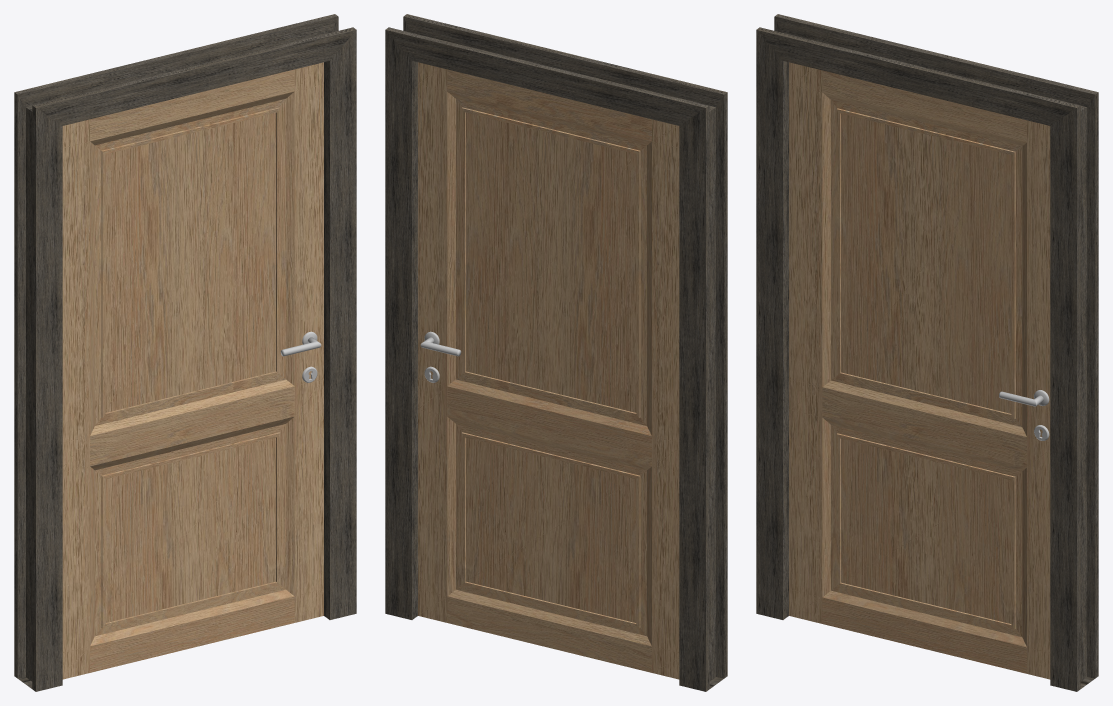
The model's file is door.fbx.
The picture shows the model from 3 angles, left to right: view 1: azimuth 30°, elevation 25°; view 2: azimuth 150°, elevation 25°; view 3: azimuth 330°, elevation 25°; orthographic projection.
Parts seen in each view (by area): view 1: Door1, Frame, Lock; view 2: Door1, Frame, Lock; view 3: Door1, Frame, Lock.
Part boxes in pixels (x1,y1,x2,y2): Door1: [62, 62, 323, 679]; Frame: [14, 14, 356, 691]; Lock: [280, 331, 321, 382]; Door1: [418, 62, 679, 679]; Frame: [385, 14, 727, 691]; Lock: [420, 331, 461, 382]; Door1: [789, 62, 1050, 679]; Frame: [756, 14, 1098, 691]; Lock: [999, 390, 1049, 440].
Bounding box in the file's own units: 120 × 17.72 × 209.
